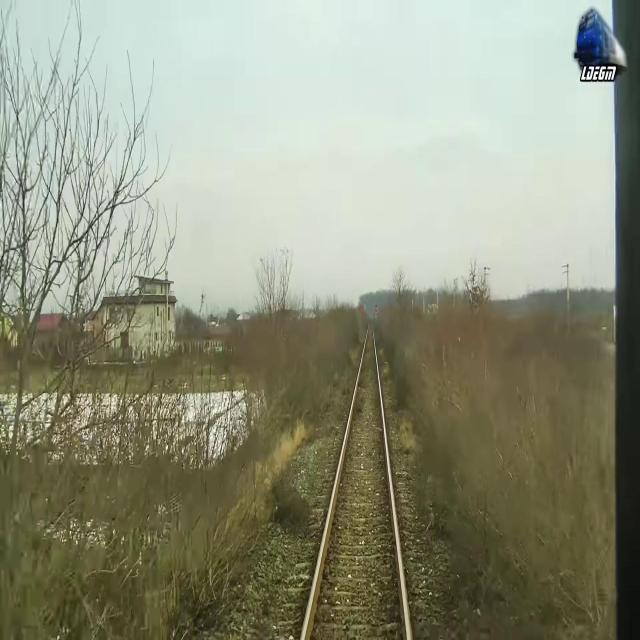rail-track: (304, 322, 406, 639)
